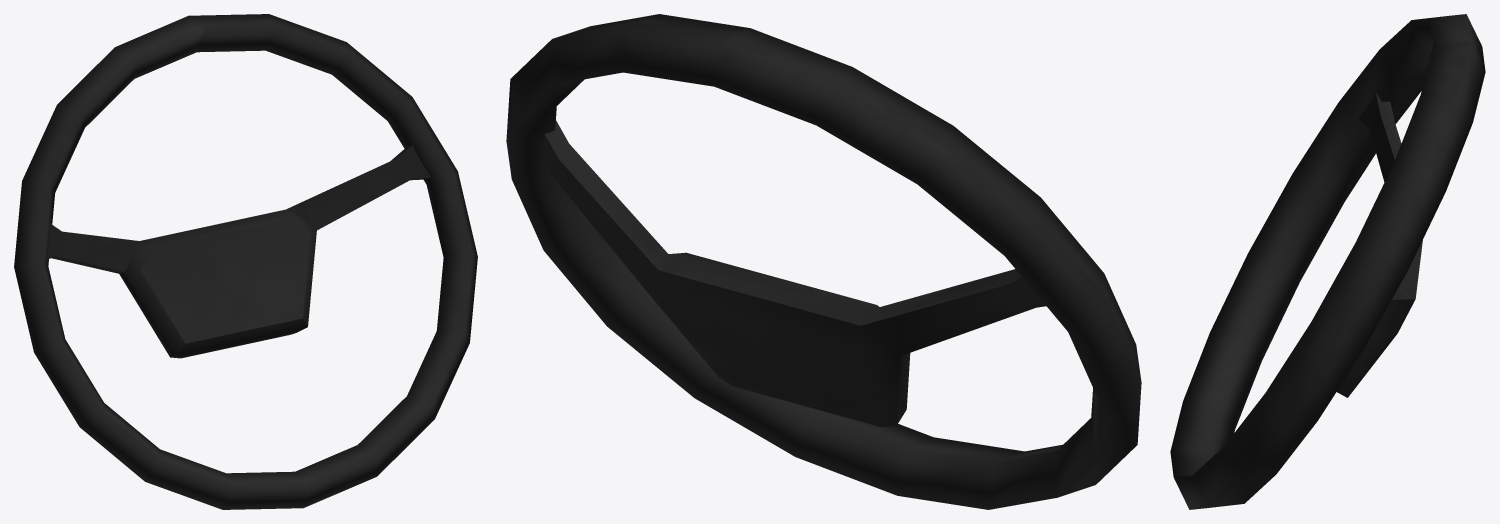
Rendered from shvan92_steering_wheel_ucb_interiors_1_0.003_lev3.glb.
3 views of the same model, side by side, from view 1: azimuth 30°, elevation 25°; view 2: azimuth 150°, elevation 25°; view 3: azimuth 270°, elevation 25° (orthographic). The views are drawn at different scales.
Visible parts, largest first — view 1: shvan92_steering_wheel_ucb_interiors_1_0.003_lev3; view 2: shvan92_steering_wheel_ucb_interiors_1_0.003_lev3; view 3: shvan92_steering_wheel_ucb_interiors_1_0.003_lev3.
Boxes of the visible parts, x1,y1,x2,y2 form: shvan92_steering_wheel_ucb_interiors_1_0.003_lev3: [14, 14, 477, 509]; shvan92_steering_wheel_ucb_interiors_1_0.003_lev3: [506, 14, 1141, 509]; shvan92_steering_wheel_ucb_interiors_1_0.003_lev3: [1170, 14, 1485, 509].
Size of the model in its own units: 0.3341 by 0.2929 by 0.1873.
Materials: 1 (1 with a texture image).
